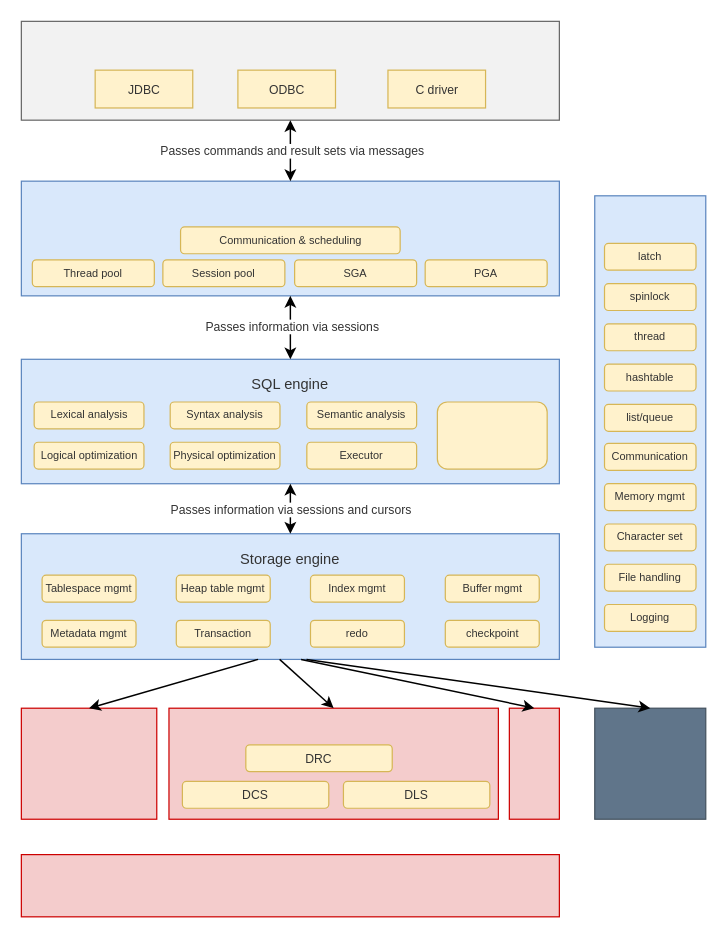
This 727x938 diagram has some shape labels left out. Here are the shapes that lost their labels. From the top down, the box of each, then its label:
(20, 20, 559, 120): Application
(20, 180, 559, 296): Instance mgmt
(436, 401, 547, 469): Stored procedure
(594, 195, 706, 647): Common utilities
(20, 707, 157, 819): DSS
(168, 707, 498, 819): DMS
(508, 707, 559, 819): CMS
(594, 707, 706, 819): DBSTOR
(20, 853, 559, 917): CBB
